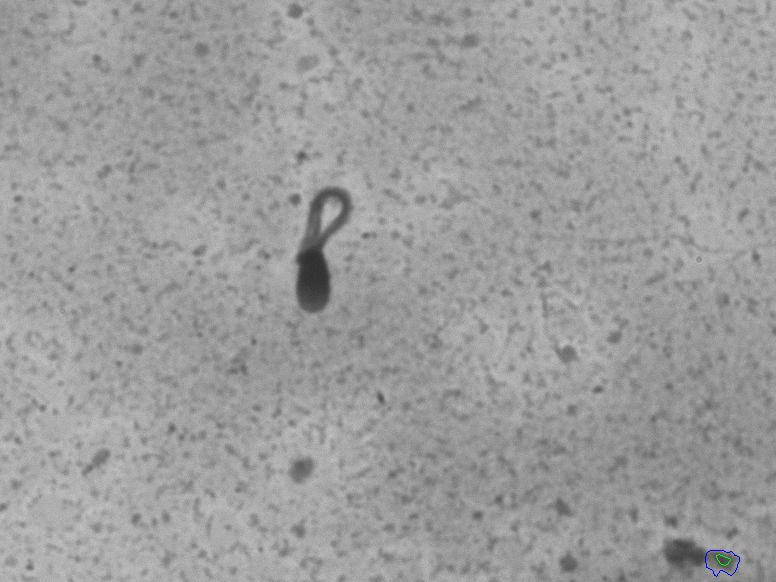Abnormal: (239, 151, 395, 348)
